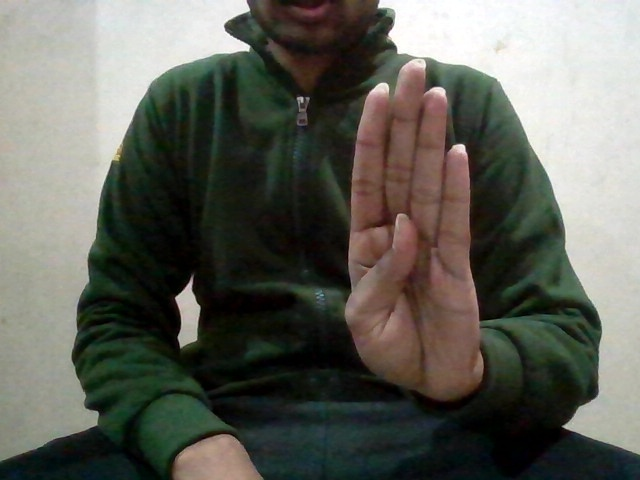B: (340, 50, 494, 402)
